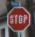stopsign: (7, 7, 31, 32)
